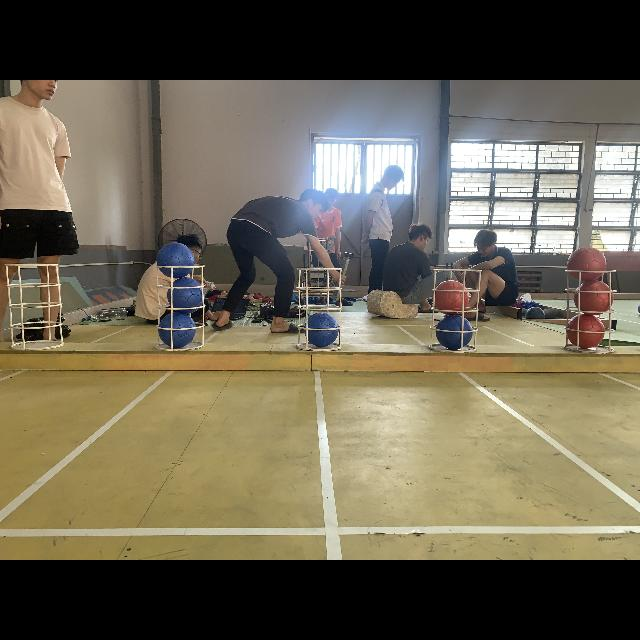B: (156, 242, 194, 278), (158, 312, 196, 348), (436, 314, 472, 350), (167, 278, 205, 312), (304, 312, 338, 346)
R: (572, 280, 614, 314), (566, 314, 604, 350), (567, 247, 607, 279), (434, 280, 470, 314)
